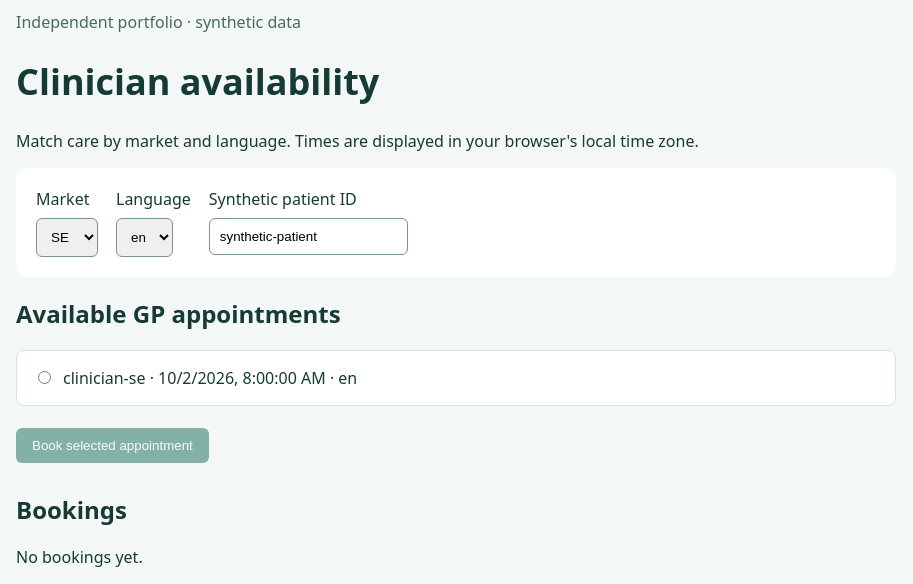
Test: renders matching appointments and disables booking until selection
Check: the text "clinician-se · 10/2/2026, 8:00:00 AM · en" is shown, box x1=16 y1=350 x2=896 y2=406
Check: the button "Book selected appointment" is disabled, box x1=16 y1=428 x2=209 y2=463
Step 1. Click the radio button → (44, 378), box x1=38 y1=371 x2=51 y2=384
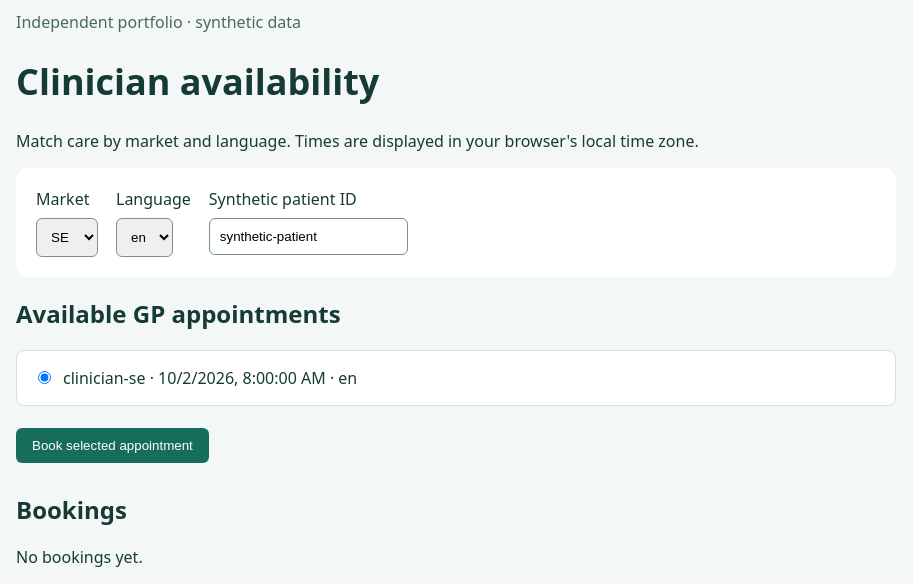
Check: the button "Book selected appointment" is enabled, box x1=16 y1=428 x2=209 y2=463
